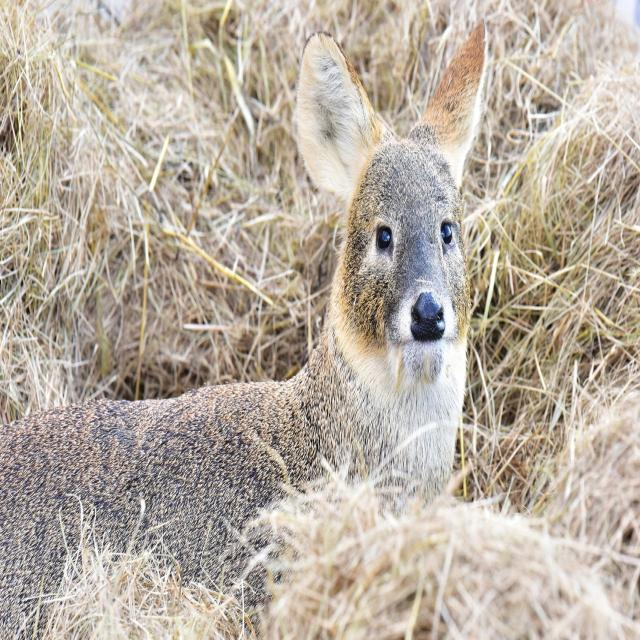elk: (15, 14, 492, 605)
